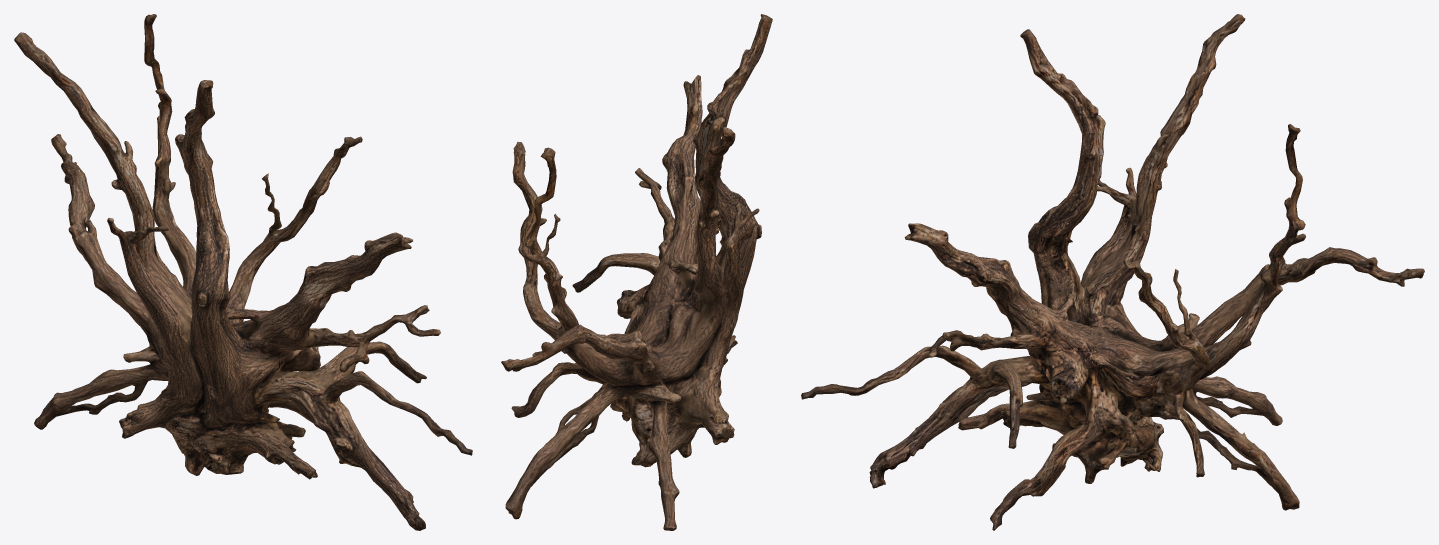
The model's file is driftwood.glb.
3 renders of one model, left to right at view 1: azimuth 30°, elevation 25°; view 2: azimuth 150°, elevation 25°; view 3: azimuth 270°, elevation 25°, orthographic. The views are drawn at different scales.
Parts seen in each view (by area): view 1: tripo_node_0c40d400-2b7b-42bb-9336-69568feb6a16; view 2: tripo_node_0c40d400-2b7b-42bb-9336-69568feb6a16; view 3: tripo_node_0c40d400-2b7b-42bb-9336-69568feb6a16.
Part boxes in pixels (bbox=[...]): tripo_node_0c40d400-2b7b-42bb-9336-69568feb6a16: bbox=[14, 14, 472, 530]; tripo_node_0c40d400-2b7b-42bb-9336-69568feb6a16: bbox=[501, 14, 772, 530]; tripo_node_0c40d400-2b7b-42bb-9336-69568feb6a16: bbox=[801, 14, 1424, 530].
Bounding box in the file's own units: 0.5031 × 0.7485 × 0.9985.
1 material, 1 textured.
